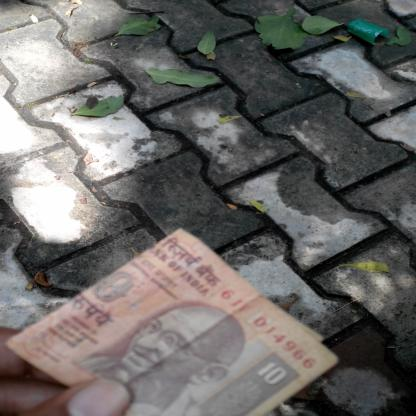Old10Front: (6, 228, 341, 416)
